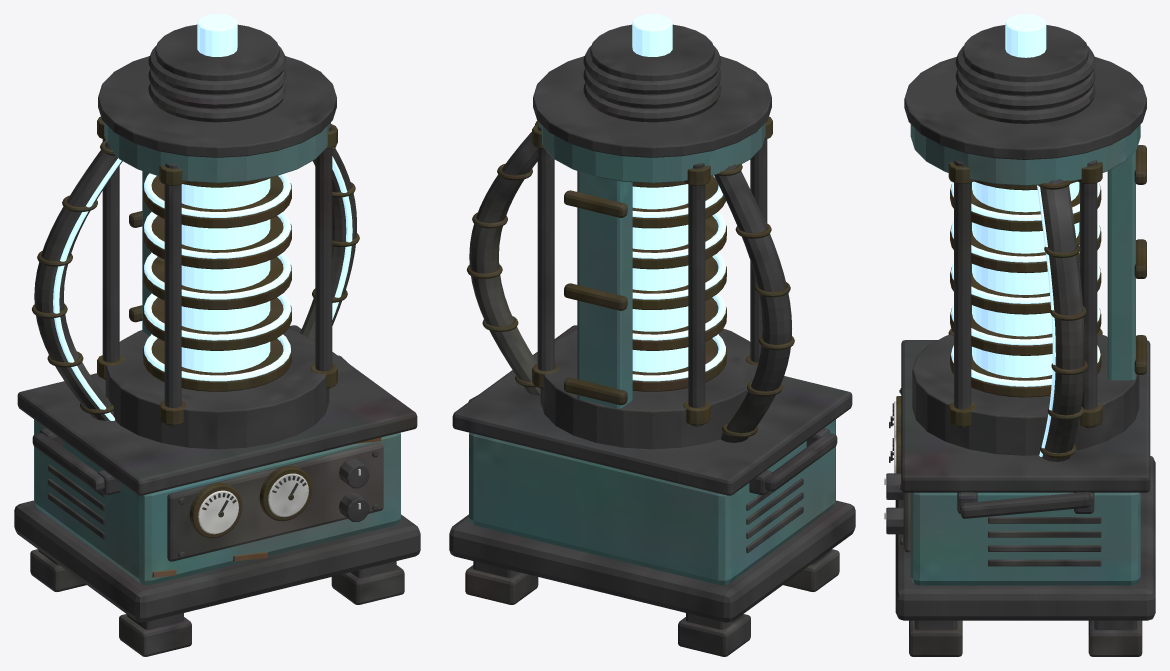
Rendered from A05_memory_core_machine.glb.
The picture shows the model from 3 angles, left to right: view 1: azimuth 30°, elevation 25°; view 2: azimuth 150°, elevation 25°; view 3: azimuth 270°, elevation 25°; orthographic projection.
Visible parts, largest first — view 1: Rubber isolation foot; view 2: Rubber isolation foot; view 3: Rubber isolation foot.
Boxes of the visible parts, bbox=[...] form: Rubber isolation foot: bbox=[14, 14, 420, 656]; Rubber isolation foot: bbox=[449, 14, 855, 656]; Rubber isolation foot: bbox=[884, 14, 1155, 656].
Bounding box in the file's own units: 2.4 × 4 × 1.72.
Materials: 8 (7 with a texture image).
